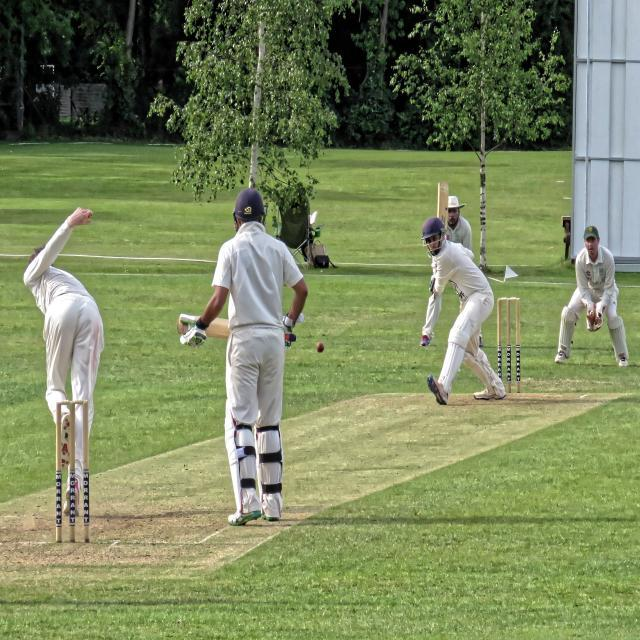stumps: (53, 397, 92, 546), (495, 297, 521, 393)
